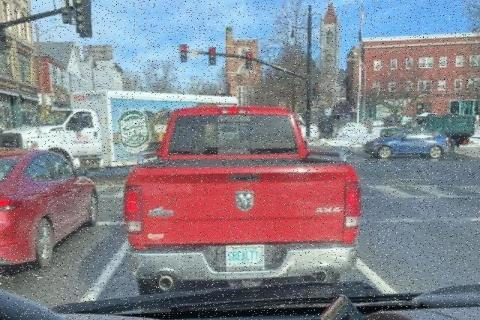LicensePlate: (223, 244, 263, 266)
